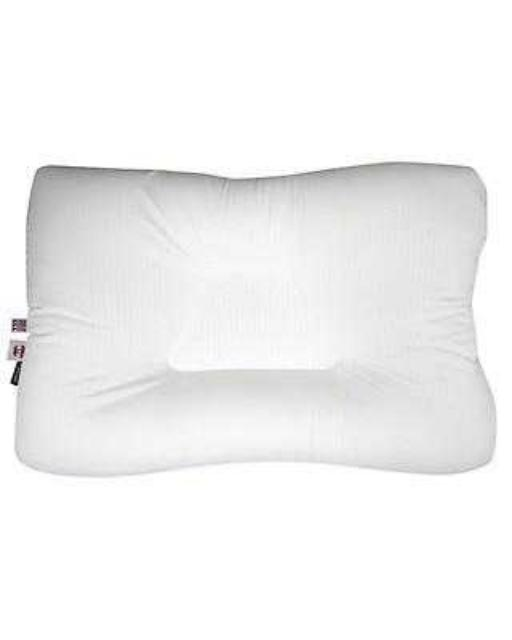pillow: (11, 159, 497, 477)
